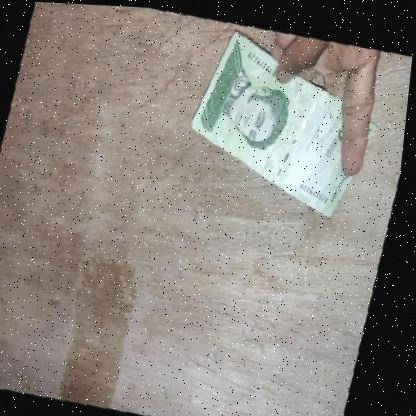vef_front: (175, 23, 397, 217)
